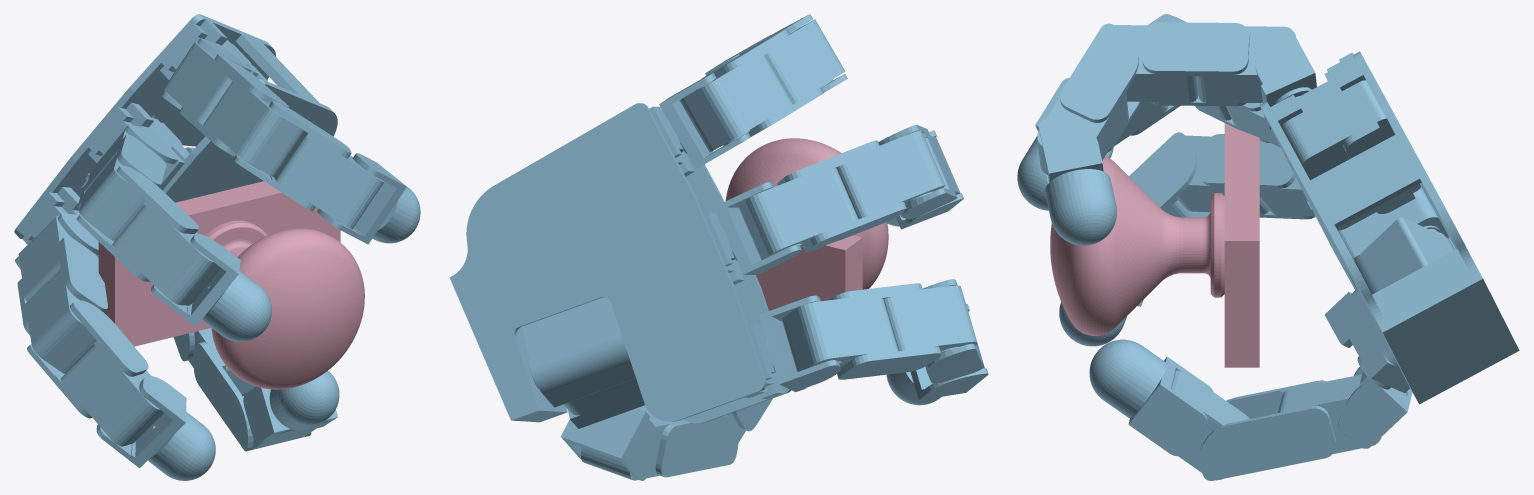
3 renders of one model, left to right at view 1: azimuth 30°, elevation 25°; view 2: azimuth 150°, elevation 25°; view 3: azimuth 270°, elevation 25°, orthographic. The views are drawn at different scales.
Parts seen in each view (by area): view 1: world, door_knob.stl; view 2: world, door_knob.stl; view 3: world, door_knob.stl.
Boxes of the visible parts, <box> form: world: <box>14,14,420,480</box>; door_knob.stl: <box>98,181,364,389</box>; world: <box>449,14,988,480</box>; door_knob.stl: <box>725,138,888,310</box>; world: <box>1017,14,1519,480</box>; door_knob.stl: <box>1050,123,1259,367</box>.
Bounding box in the file's own units: 0.17 × 0.167 × 0.1798.
